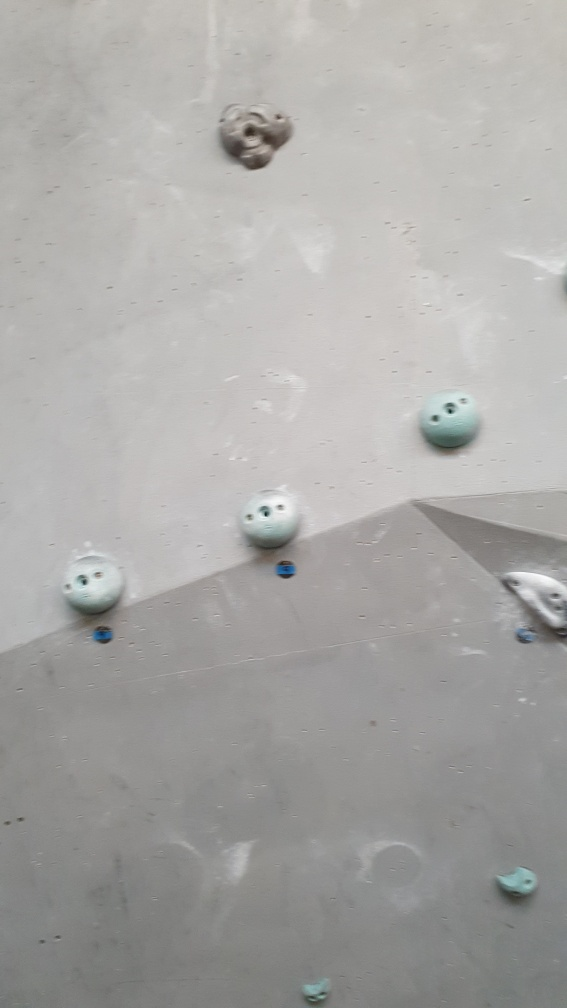Hand Start: (88, 618, 121, 648), (515, 622, 542, 651), (274, 554, 301, 581)
Jug: (211, 96, 297, 174)
Sloper: (413, 382, 487, 457), (239, 480, 304, 547), (63, 549, 128, 613)
